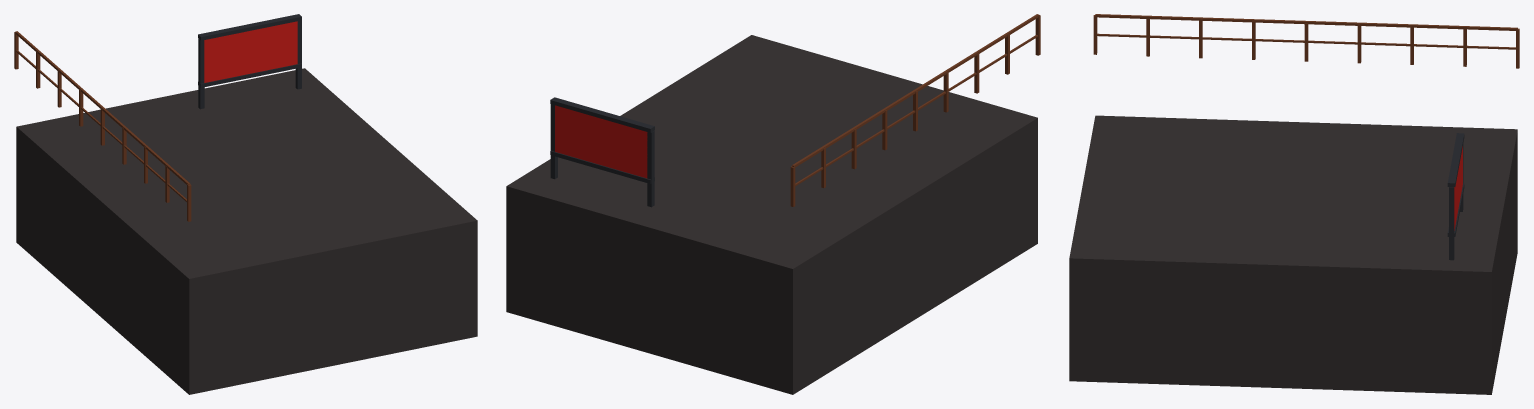
The model's file is SM_Volcano_Viewpoint.fbx.
The picture shows the model from 3 angles, left to right: view 1: azimuth 30°, elevation 25°; view 2: azimuth 150°, elevation 25°; view 3: azimuth 270°, elevation 25°; orthographic projection. The views are drawn at different scales.
Parts seen in each view (by area): view 1: SM_Volcano_Viewpoint; view 2: SM_Volcano_Viewpoint; view 3: SM_Volcano_Viewpoint.
Part boxes in pixels (x1,y1,x2,y2): SM_Volcano_Viewpoint: (14, 14, 477, 394); SM_Volcano_Viewpoint: (506, 14, 1040, 394); SM_Volcano_Viewpoint: (1069, 14, 1519, 394).
Size of the model in its own units: 8.79 by 5.83 by 10.63.
